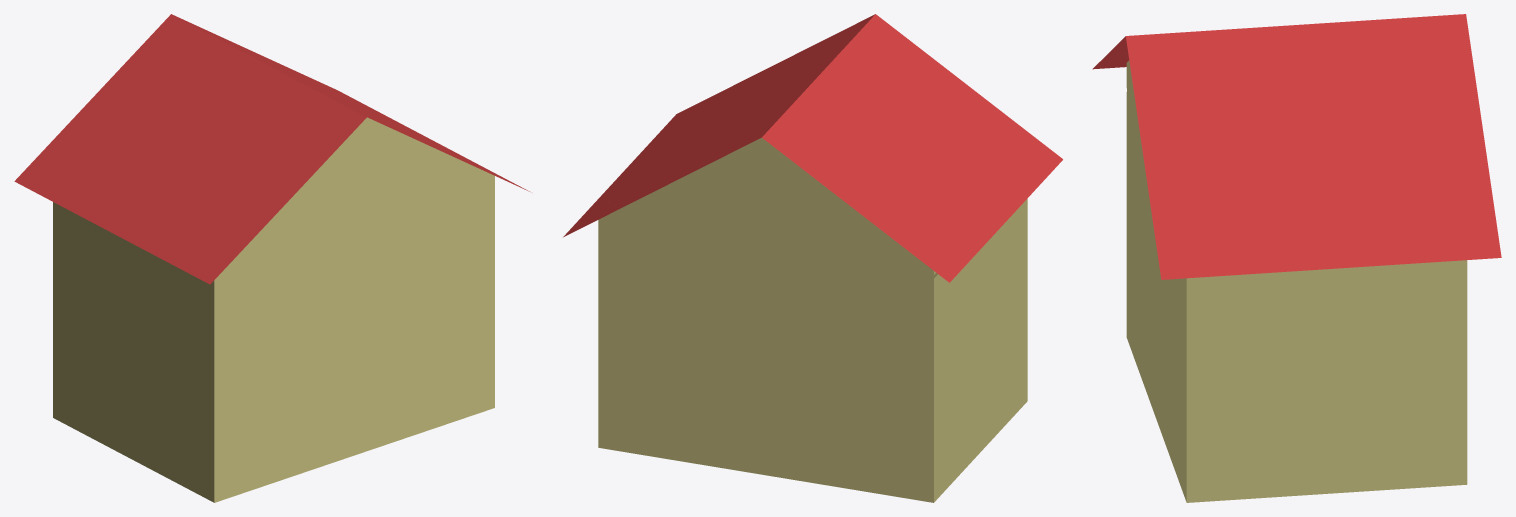
The picture shows the model from 3 angles, left to right: view 1: azimuth 30°, elevation 25°; view 2: azimuth 150°, elevation 25°; view 3: azimuth 270°, elevation 25°; orthographic projection. The views are drawn at different scales.
Size of the model in its own units: 12.43 by 10.13 by 10.47.
